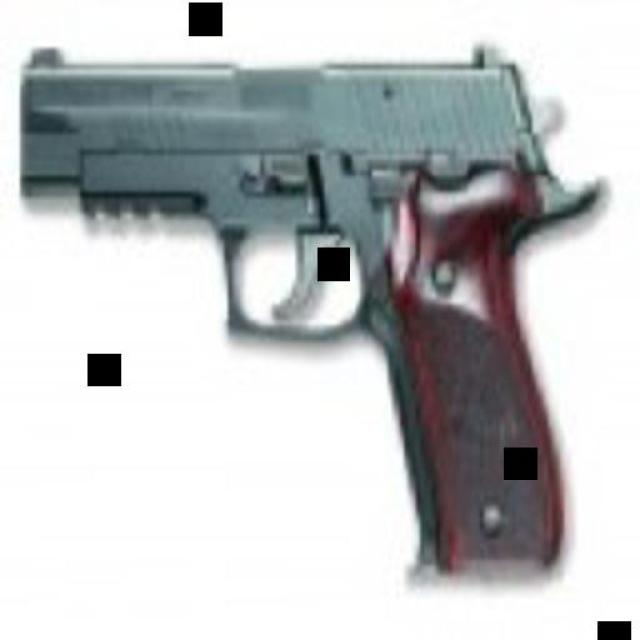gun: (19, 35, 602, 569)
